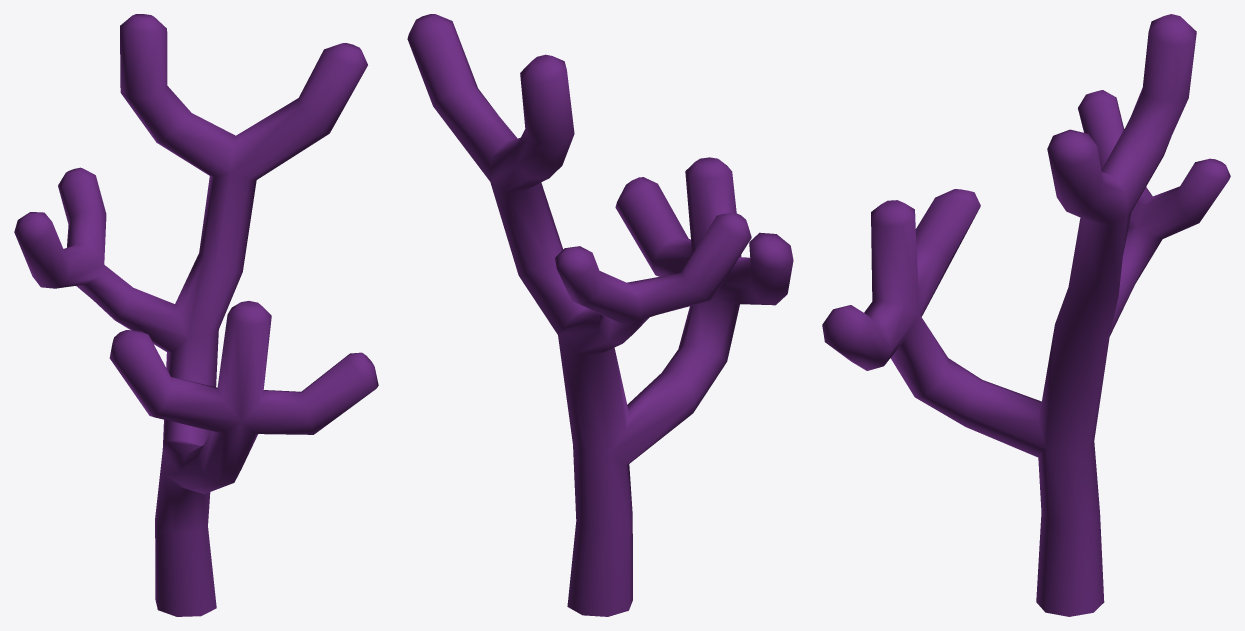
File: Sea_plant_1_3.001.fbx
3 renders of one model, left to right at view 1: azimuth 30°, elevation 25°; view 2: azimuth 150°, elevation 25°; view 3: azimuth 270°, elevation 25°, orthographic. The views are drawn at different scales.
Parts seen in each view (by area): view 1: Sea_plant_1_3.001; view 2: Sea_plant_1_3.001; view 3: Sea_plant_1_3.001.
Part boxes in pixels (x1=…): Sea_plant_1_3.001: x1=14, y1=14, x2=378, y2=616; Sea_plant_1_3.001: x1=407, y1=14, x2=793, y2=616; Sea_plant_1_3.001: x1=822, y1=14, x2=1230, y2=616.
Size of the model in its own units: 0.701 by 1.11 by 0.6982.
